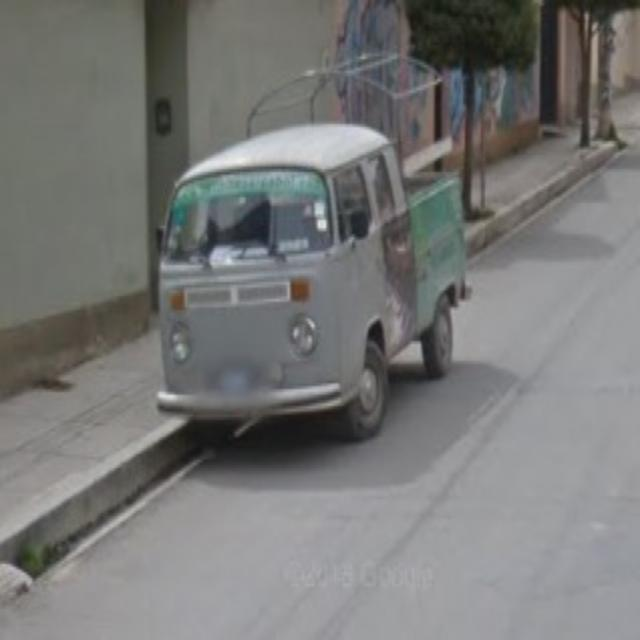cars: (153, 126, 466, 430)
